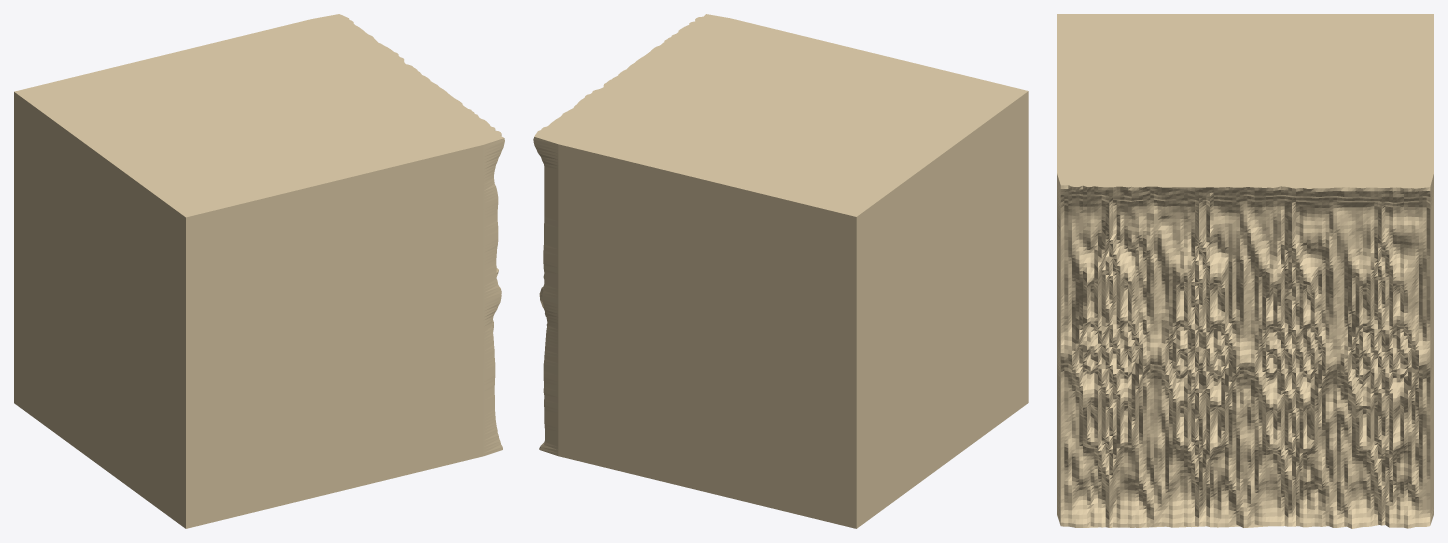
Rendered from top2.png.obj.
3 views of the same model, side by side, from view 1: azimuth 30°, elevation 25°; view 2: azimuth 150°, elevation 25°; view 3: azimuth 270°, elevation 25° (orthographic). The views are drawn at different scales.
Visible parts, largest first — view 1: Cube; view 2: Cube; view 3: Cube.
Boxes of the visible parts, x1,y1,x2,y2 form: Cube: [14, 14, 504, 528]; Cube: [533, 14, 1028, 528]; Cube: [1057, 14, 1433, 528].
Bounding box in the file's own units: 1.1 × 1 × 1.
